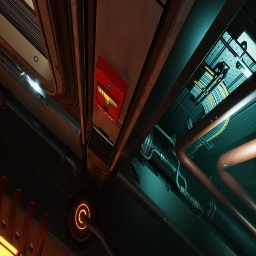FireAlarm ,: (94, 55, 128, 124)
